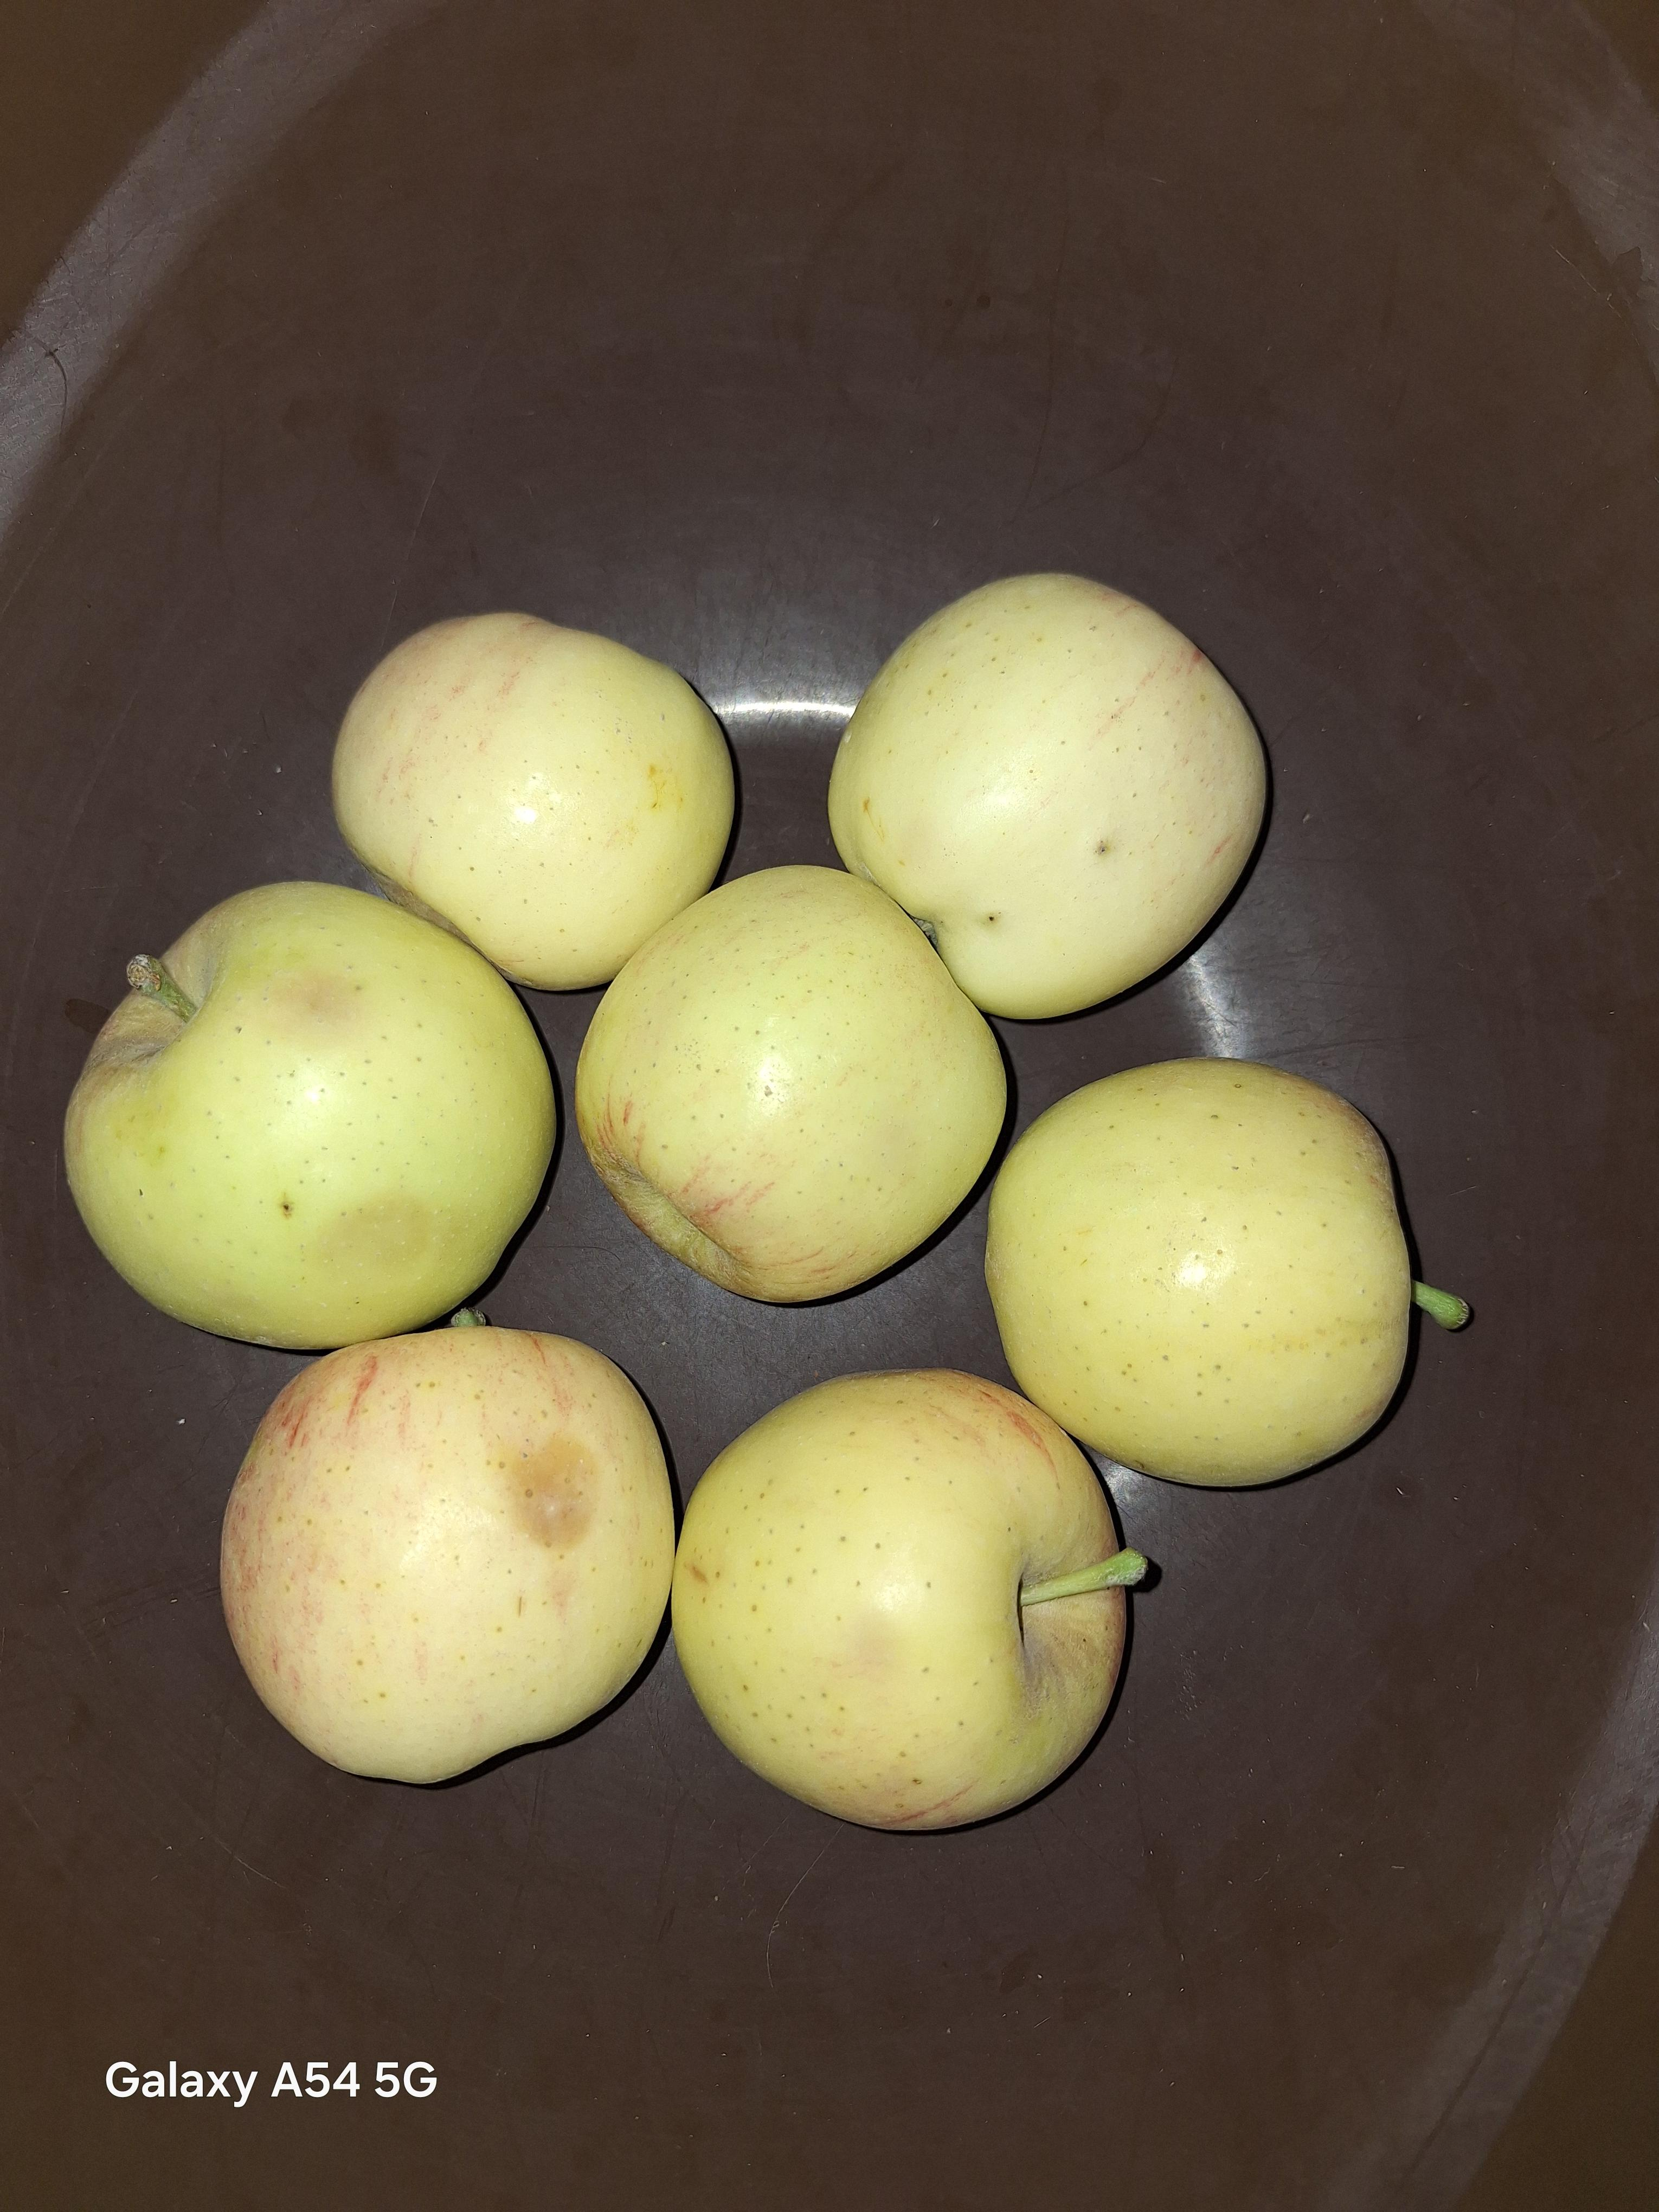non-mango: (54, 859, 573, 1357), (200, 1303, 685, 1804), (699, 1341, 1162, 1834), (971, 1031, 1455, 1487), (857, 523, 1260, 1028), (586, 853, 1014, 1324), (331, 587, 732, 1021)
